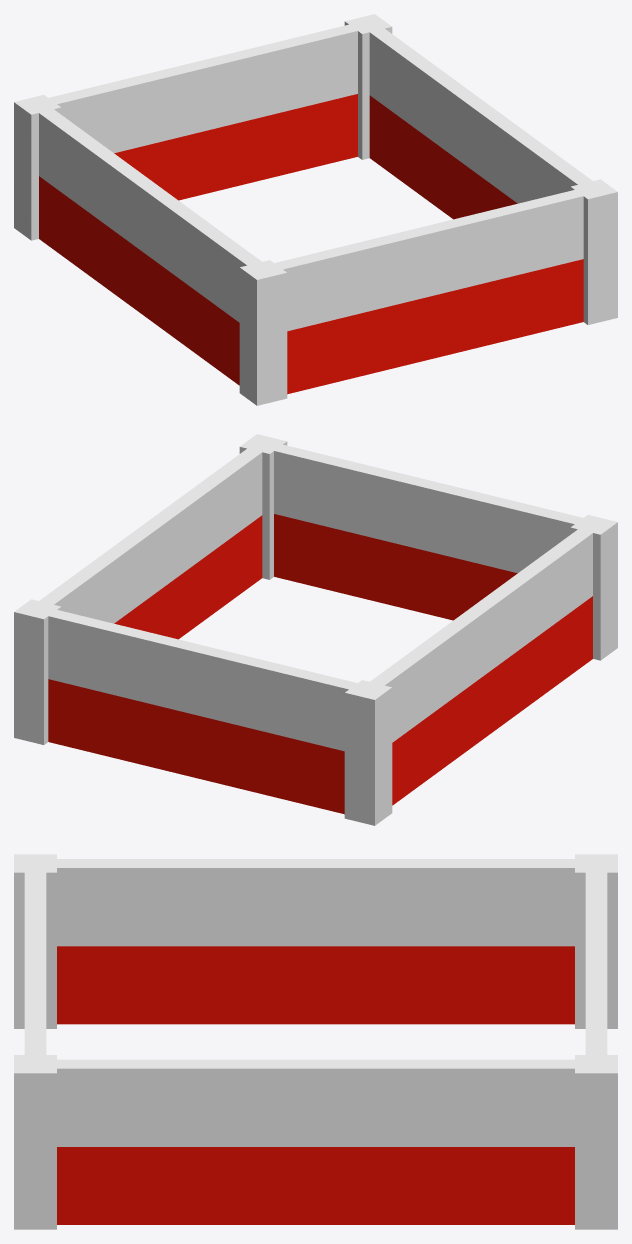
The model's file is CordonTape_Urn.fbx.
The picture shows the model from 3 angles, top to bottom: view 1: azimuth 30°, elevation 25°; view 2: azimuth 150°, elevation 25°; view 3: azimuth 270°, elevation 25°; orthographic projection. The views are drawn at different scales.
Visible parts, largest first — view 1: CordonedOffTape__23_, CordonedOffTape__15_, CordonedOffTape__26_, CordonedOffTape__19_, CordonedOffTape__21_, CordonedOffTape__18_, CordonedOffTape__20_, CordonedOffTape__22_, CordonedOffTape__25_, CordonedOffTape__24_, CordonedOffTape__17_, CordonedOffTape__16_; view 2: CordonedOffTape__15_, CordonedOffTape__23_, CordonedOffTape__18_, CordonedOffTape__19_, CordonedOffTape__21_, CordonedOffTape__26_, CordonedOffTape__20_, CordonedOffTape__22_, CordonedOffTape__17_, CordonedOffTape__16_, CordonedOffTape__25_, CordonedOffTape__24_; view 3: CordonedOffTape__19_, CordonedOffTape__21_, CordonedOffTape__20_, CordonedOffTape__22_, CordonedOffTape__16_, CordonedOffTape__24_, CordonedOffTape__17_, CordonedOffTape__25_, CordonedOffTape__15_, CordonedOffTape__23_.
Boxes of the visible parts, left/top/right/bottom form: CordonedOffTape__23_: left=274, top=190, right=583, bottom=331; CordonedOffTape__15_: left=49, top=24, right=357, bottom=153; CordonedOffTape__26_: left=287, top=259, right=583, bottom=394; CordonedOffTape__19_: left=39, top=109, right=261, bottom=322; CordonedOffTape__21_: left=369, top=28, right=592, bottom=203; CordonedOffTape__18_: left=114, top=94, right=357, bottom=200; CordonedOffTape__20_: left=39, top=176, right=239, bottom=385; CordonedOffTape__22_: left=369, top=95, right=517, bottom=219; CordonedOffTape__25_: left=239, top=260, right=287, bottom=405; CordonedOffTape__24_: left=570, top=179, right=617, bottom=324; CordonedOffTape__17_: left=14, top=95, right=61, bottom=240; CordonedOffTape__16_: left=344, top=14, right=392, bottom=159; CordonedOffTape__15_: left=48, top=610, right=357, bottom=751; CordonedOffTape__23_: left=274, top=444, right=582, bottom=573; CordonedOffTape__18_: left=48, top=679, right=344, bottom=814; CordonedOffTape__19_: left=370, top=529, right=592, bottom=742; CordonedOffTape__21_: left=39, top=448, right=262, bottom=623; CordonedOffTape__26_: left=274, top=514, right=517, bottom=620; CordonedOffTape__20_: left=392, top=596, right=592, bottom=805; CordonedOffTape__22_: left=114, top=515, right=262, bottom=639; CordonedOffTape__17_: left=344, top=680, right=392, bottom=825; CordonedOffTape__16_: left=14, top=599, right=61, bottom=744; CordonedOffTape__25_: left=570, top=515, right=617, bottom=660; CordonedOffTape__24_: left=239, top=434, right=287, bottom=579; CordonedOffTape__19_: left=57, top=859, right=574, bottom=946; CordonedOffTape__21_: left=57, top=1059, right=574, bottom=1146; CordonedOffTape__20_: left=57, top=946, right=574, bottom=1024; CordonedOffTape__22_: left=57, top=1147, right=574, bottom=1224; CordonedOffTape__16_: left=575, top=1055, right=617, bottom=1229; CordonedOffTape__24_: left=14, top=1055, right=56, bottom=1229; CordonedOffTape__17_: left=575, top=854, right=617, bottom=1028; CordonedOffTape__25_: left=14, top=854, right=56, bottom=1028; CordonedOffTape__15_: left=585, top=872, right=607, bottom=1054; CordonedOffTape__23_: left=24, top=872, right=46, bottom=1054.
Bounding box in the file's own units: 300 × 100 × 350.
